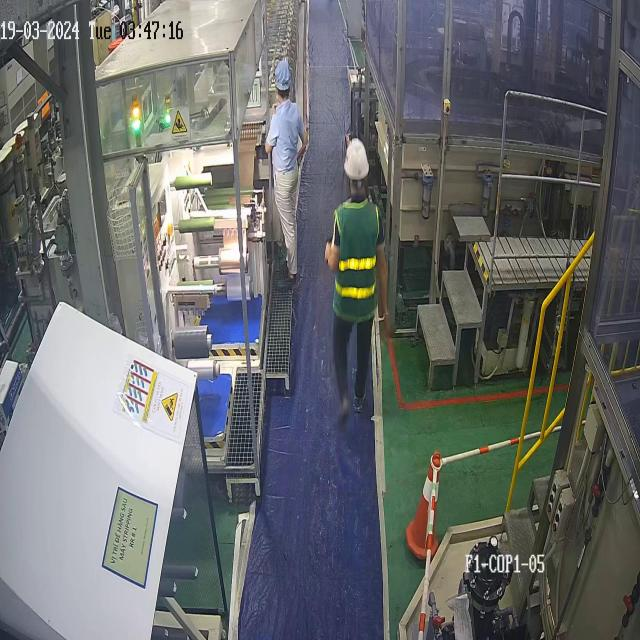Person: (324, 133, 391, 420), (264, 60, 308, 286)
